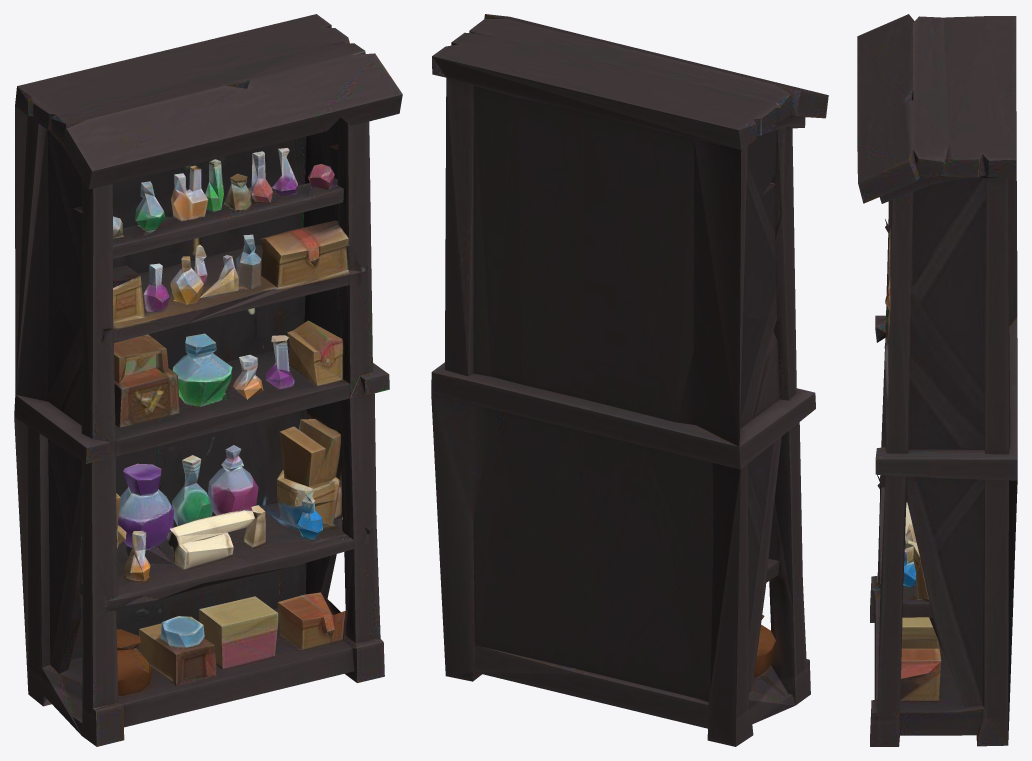
File: shelf.glb
The picture shows the model from 3 angles, left to right: view 1: azimuth 30°, elevation 25°; view 2: azimuth 150°, elevation 25°; view 3: azimuth 270°, elevation 25°; orthographic projection. The views are drawn at different scales.
Visible parts, largest first — view 1: shelf; view 2: shelf; view 3: shelf.
Part boxes in pixels (bbox=[...]): shelf: bbox=[14, 14, 402, 746]; shelf: bbox=[431, 14, 828, 746]; shelf: bbox=[857, 14, 1017, 746].
Bounding box in the file's own units: 1.23 × 2.3 × 0.5633.
Materials: 1 (1 with a texture image).
